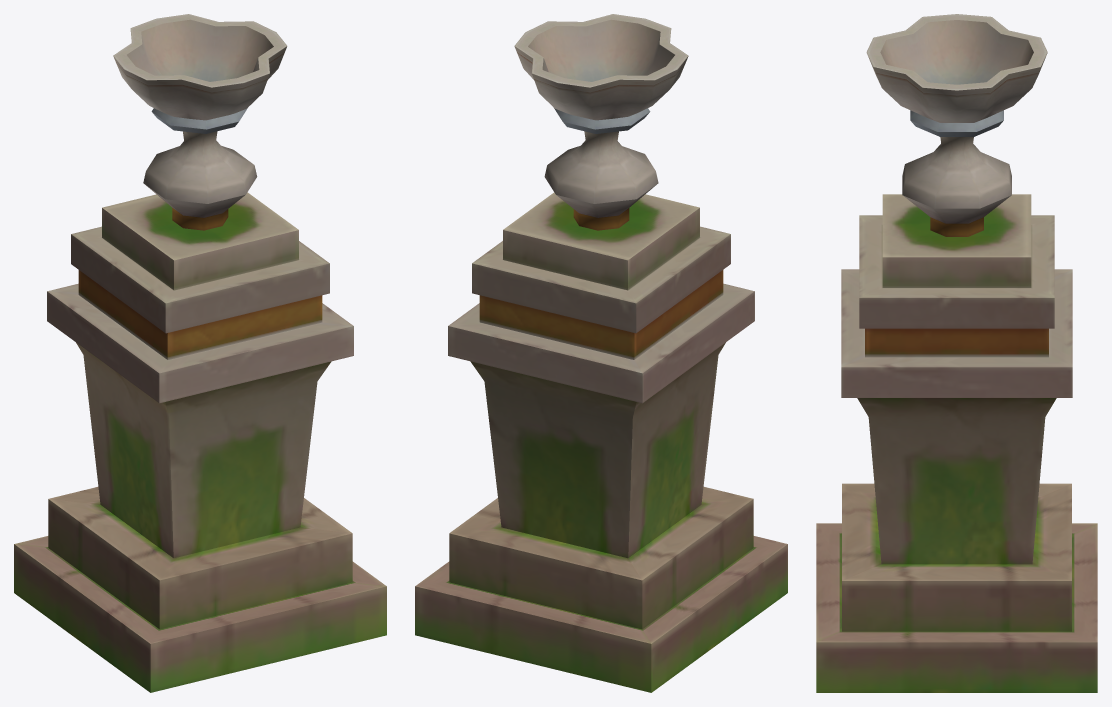
File: Scene_wujian_huapen_001.FBX
3 views of the same model, side by side, from view 1: azimuth 30°, elevation 25°; view 2: azimuth 150°, elevation 25°; view 3: azimuth 270°, elevation 25° (orthographic). The views are drawn at different scales.
Visible parts, largest first — view 1: Scene_wujian_huapen_001; view 2: Scene_wujian_huapen_001; view 3: Scene_wujian_huapen_001.
Part boxes in pixels (bbox=[...]): Scene_wujian_huapen_001: bbox=[14, 14, 386, 692]; Scene_wujian_huapen_001: bbox=[415, 14, 787, 692]; Scene_wujian_huapen_001: bbox=[816, 14, 1097, 692].
Bounding box in the file's own units: 123 × 280 × 123.
